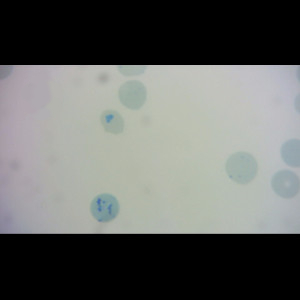aggregate reticulocyte: (88, 192, 121, 223)
erythrocyte: (116, 79, 149, 112), (269, 168, 300, 200), (98, 109, 128, 136)
punctate reticulocyte: (224, 150, 259, 186)
